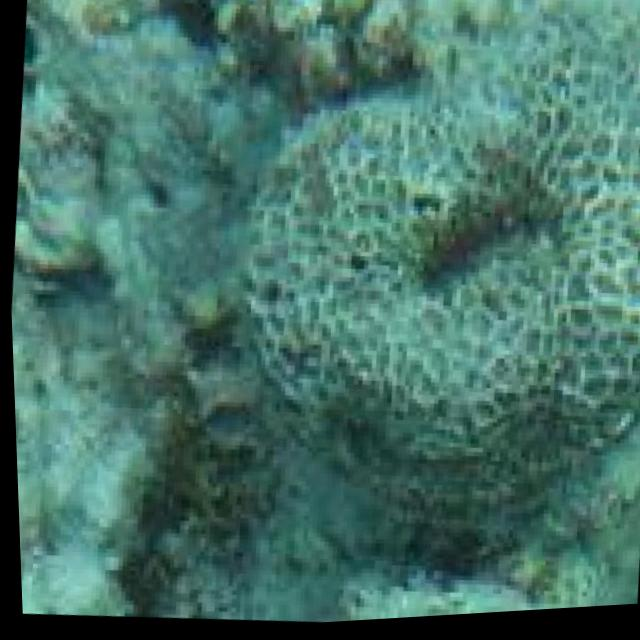Bleached Coral: (226, 0, 640, 531)
